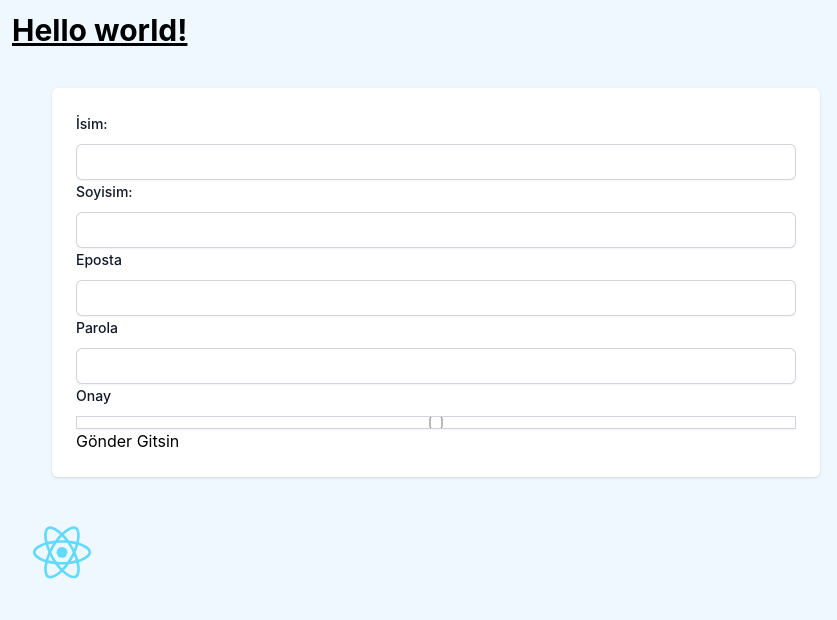
Test case: my first E2E test › şartların kabulünü test et
Click the checkbox with test id "fterms" at (436, 423), box [76,416,796,429]
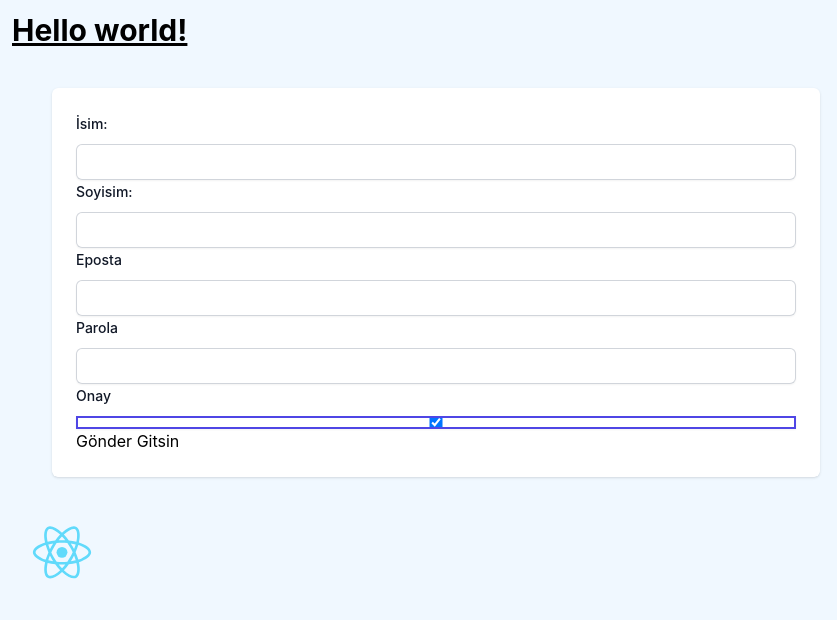
Click the checkbox with test id "fterms" at (436, 423), box [76,416,796,429]
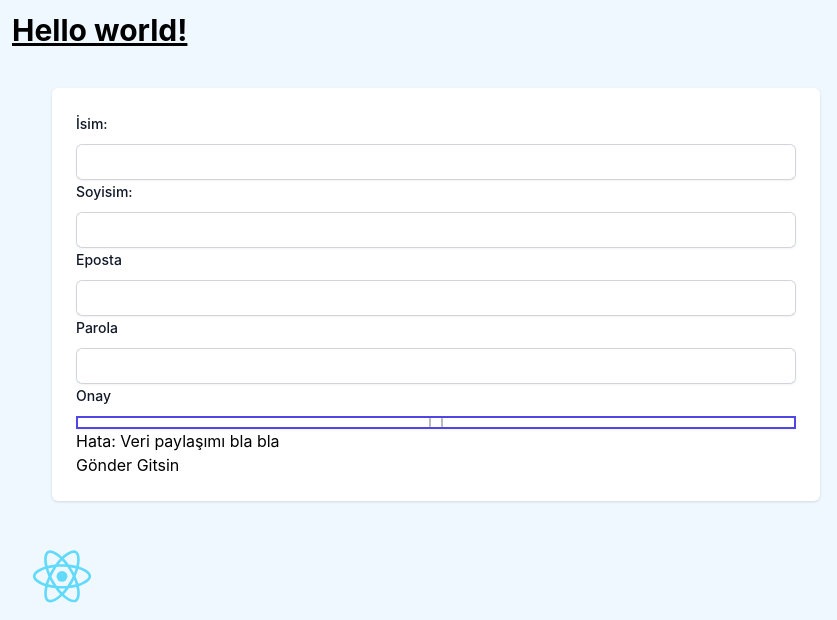
Expected: the number of elements with class "error" is 1, [76,431,280,451]
